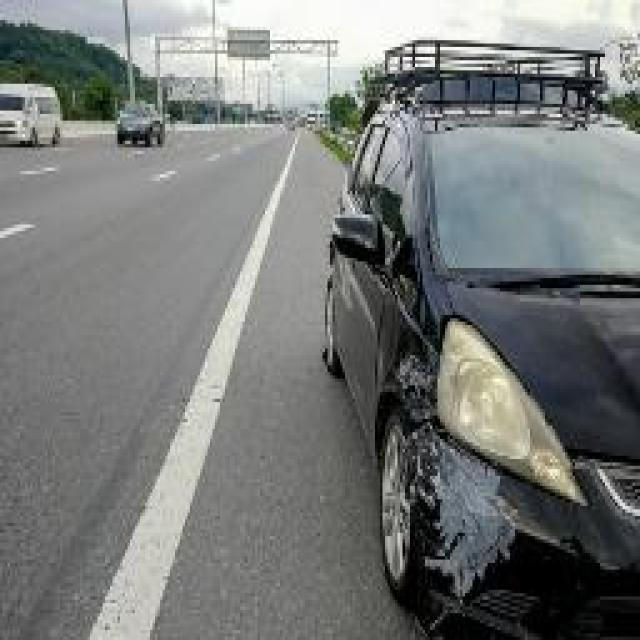Bumper: (406, 418, 592, 640)
Fender: (380, 345, 438, 424)
